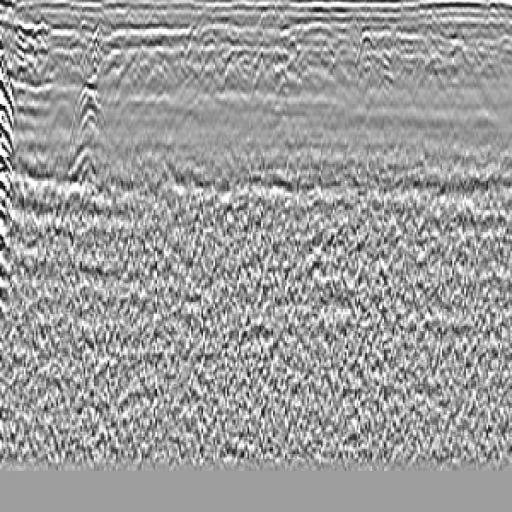metalic: (1, 36, 33, 288)
non-metallic: (63, 61, 143, 230)
